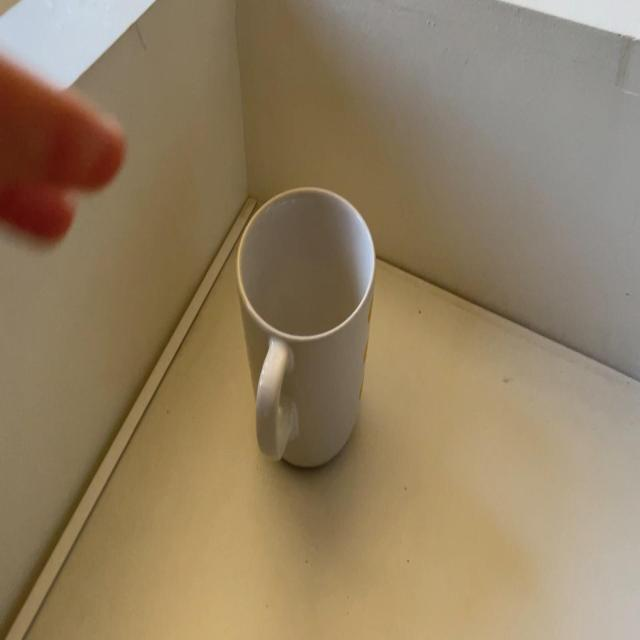cup: (224, 189, 386, 474)
